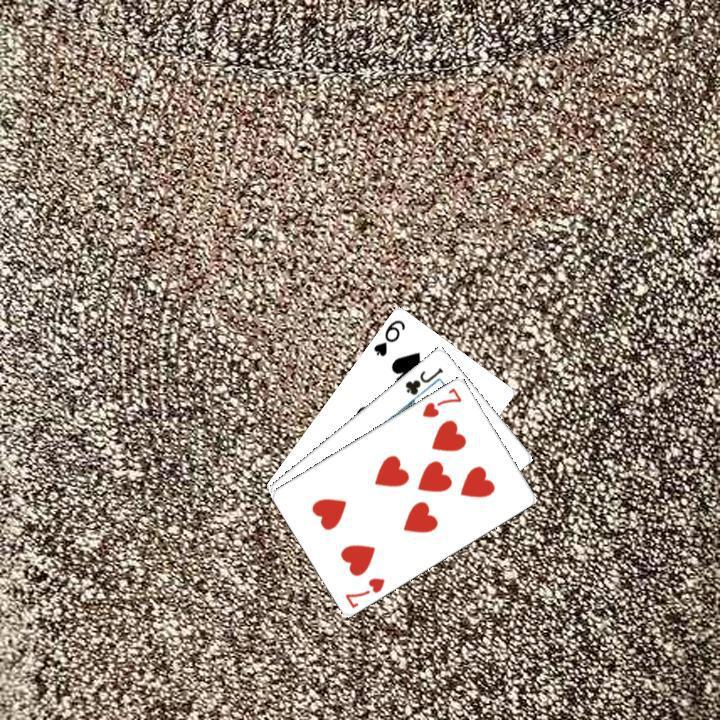6: (369, 315, 407, 358)
7: (340, 573, 387, 610), (418, 383, 464, 419)
J: (400, 363, 445, 397)
